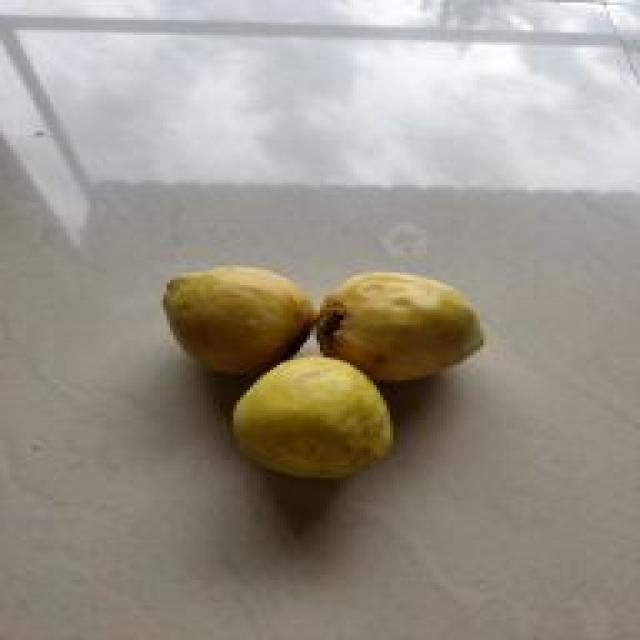Good_Guava: (233, 355, 393, 482), (313, 272, 483, 388), (160, 265, 317, 380)
